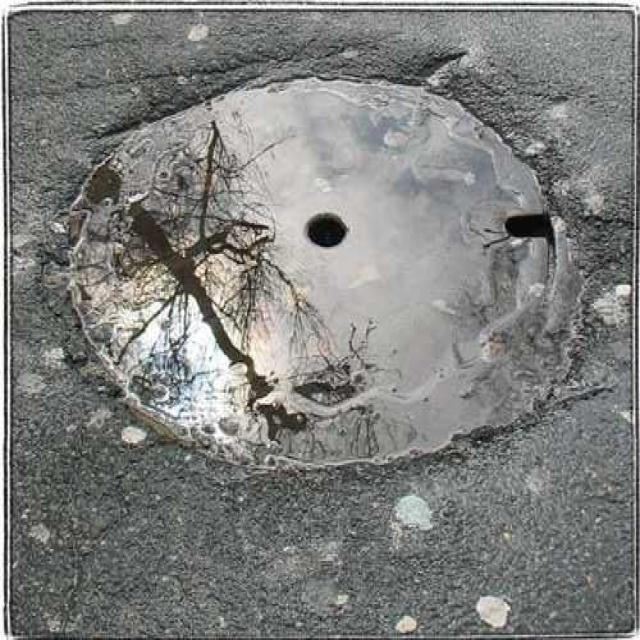manhole: (70, 79, 562, 467)
